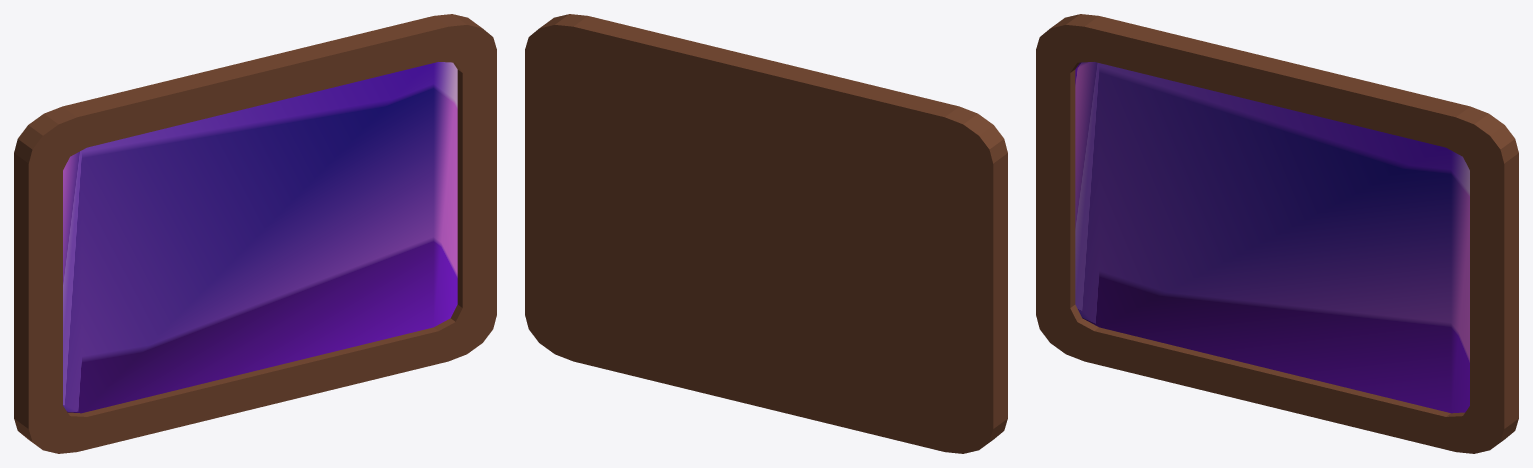
The model's file is Painting.fbx.
3 renders of one model, left to right at view 1: azimuth 30°, elevation 25°; view 2: azimuth 150°, elevation 25°; view 3: azimuth 330°, elevation 25°, orthographic.
Parts seen in each view (by area): view 1: Painting; view 2: Painting; view 3: Painting.
Boxes of the visible parts, <box> form: Painting: <box>14,14,496,453</box>; Painting: <box>525,14,1007,453</box>; Painting: <box>1036,14,1518,453</box>.
Bounding box in the file's own units: 1.42 × 0.9699 × 0.0776.
1 material, 1 textured.
